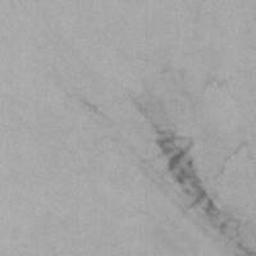Water spot: (0, 0, 256, 256), (70, 0, 123, 22)
